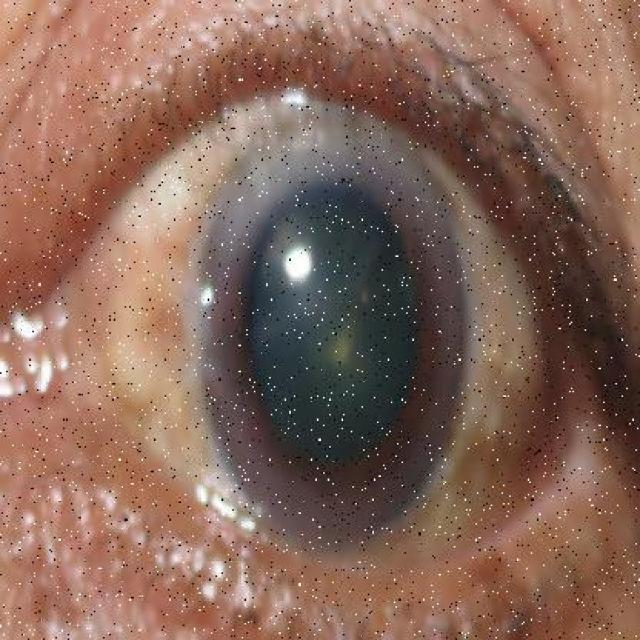Cataract: (143, 72, 534, 598)
